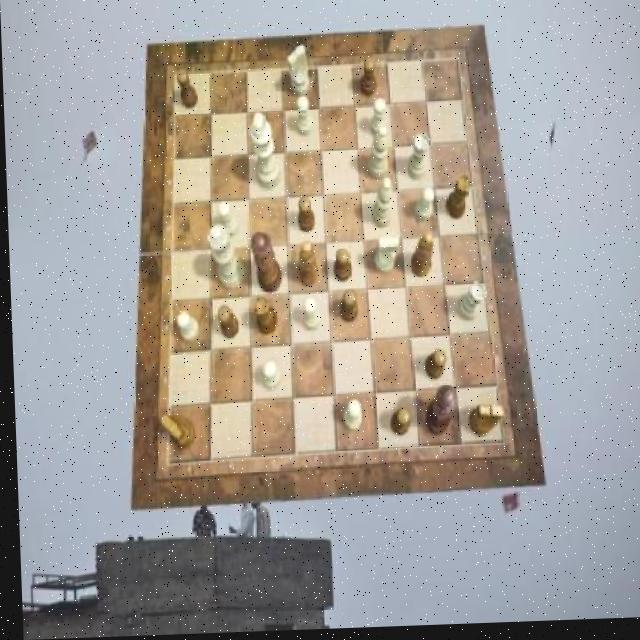bishop: (407, 235, 433, 282), (295, 244, 316, 290)
black-bishop: (421, 387, 456, 440)
black-king: (158, 413, 193, 450), (466, 407, 501, 441)
black-knight: (176, 71, 197, 112), (421, 352, 445, 384), (215, 307, 236, 342), (359, 60, 376, 101), (337, 291, 355, 326), (297, 199, 315, 234), (331, 252, 349, 286), (388, 412, 409, 440)
black-pawn: (249, 234, 281, 296)
black-queen: (444, 177, 470, 223), (252, 297, 276, 337)
black-rook: (370, 179, 394, 231), (366, 127, 388, 182)
white-bishop: (248, 114, 280, 192)
white-king: (286, 48, 309, 100), (372, 238, 399, 276)
white-knight: (412, 191, 434, 225), (296, 98, 314, 139), (369, 101, 387, 142), (217, 203, 238, 238), (174, 312, 197, 343), (300, 299, 318, 333), (259, 363, 279, 391), (340, 402, 358, 433)
white-pawn: (205, 225, 243, 292)
white-queen: (455, 286, 485, 325), (406, 137, 430, 184)
